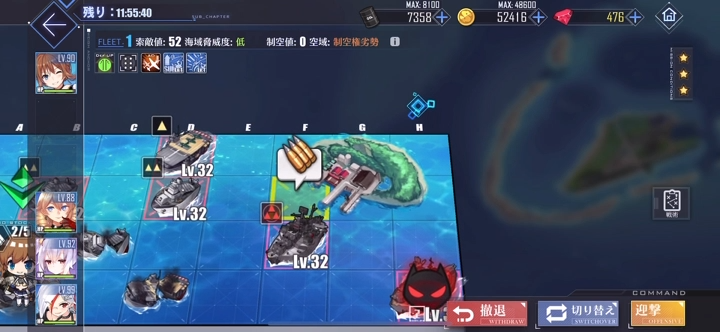boss: (396, 260, 458, 327)
lv3: (261, 203, 326, 268)
